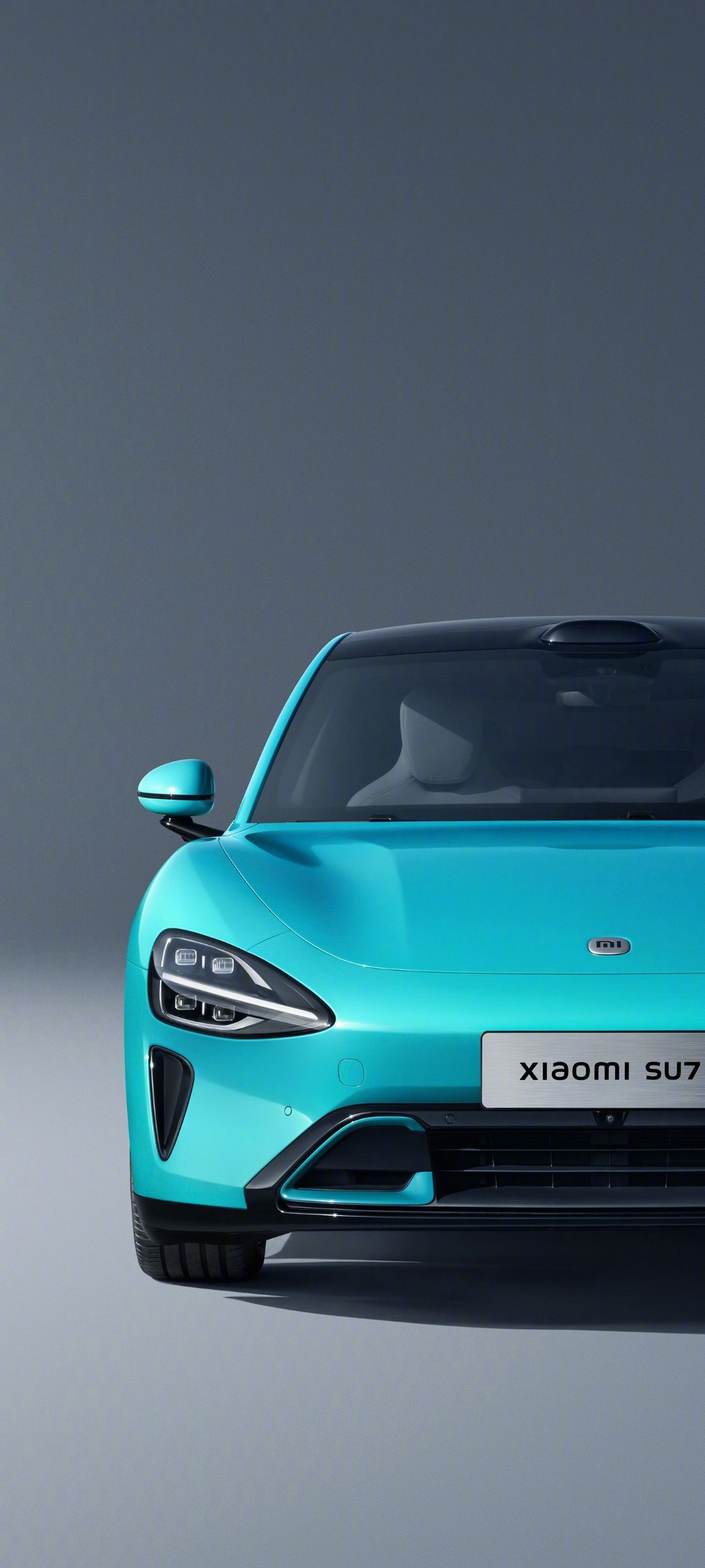su7: (144, 609, 705, 1288)
